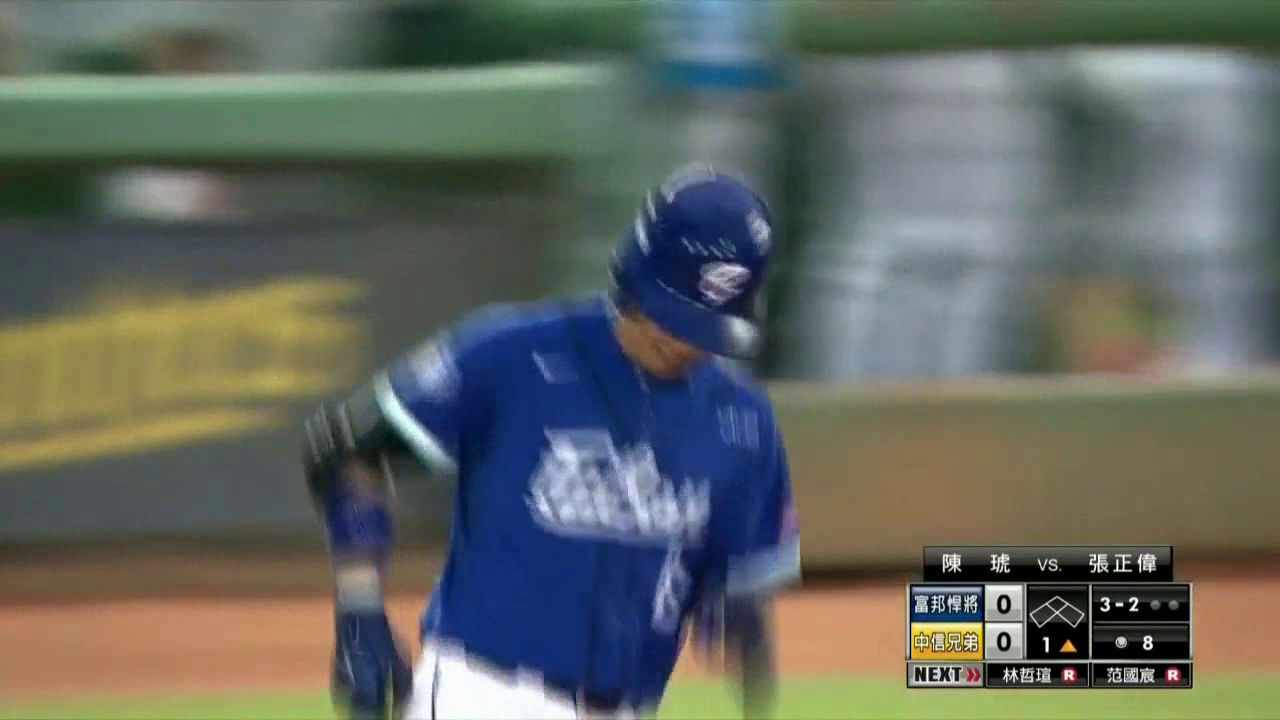base: (1029, 590, 1086, 629)
out: (1144, 593, 1182, 615)
score1: (991, 592, 1025, 623)
score2: (990, 629, 1023, 656)
session: (1028, 635, 1085, 658)
strikeball: (1095, 591, 1141, 617)
total: (1109, 631, 1158, 654)
